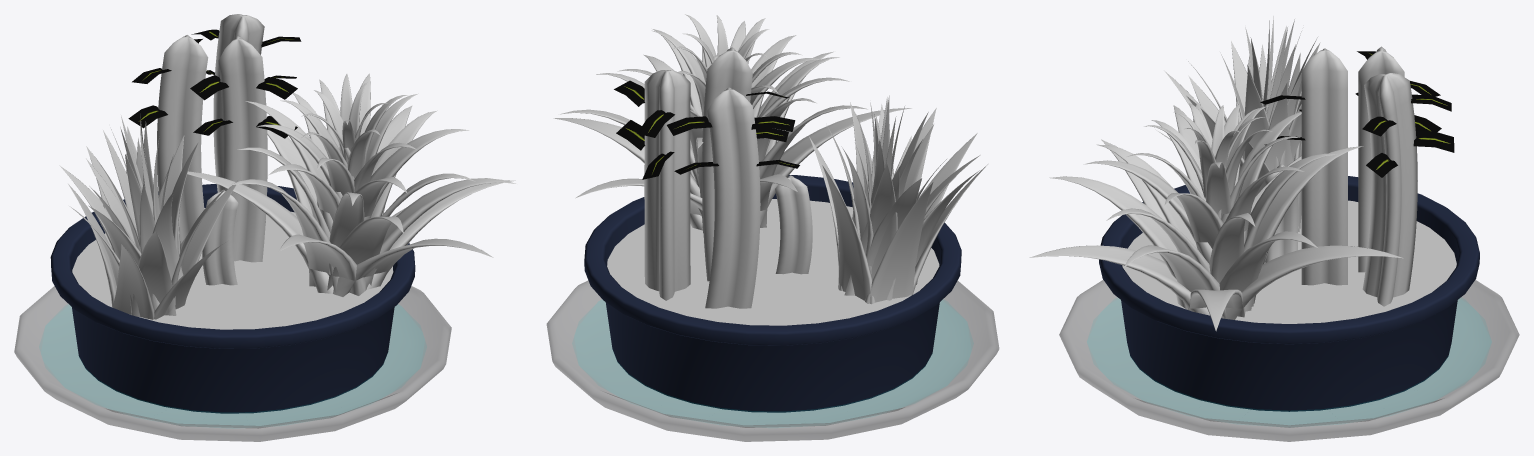
Rendered from Plant.fbx.
3 views of the same model, side by side, from view 1: azimuth 30°, elevation 25°; view 2: azimuth 150°, elevation 25°; view 3: azimuth 270°, elevation 25° (orthographic). The views are drawn at different scales.
Visible parts, largest first — view 1: Pot:prPot, WaterTray:prWaterPlate, Pot:pDirt, TallPlant:pCylinder2, SmallSpikyPlant:pLeaf2 (×6), TallPlant:pCylinder3, SmallSpikyPlant:pLeaf3 (×5), SmallSpikyPlant:pLeaf1 (×4), SmallSpikyPlant:pLeaf4 (×5), SmallSpikyPlant:pLeaf5 (×3), LargeSpikyPlant:SpikeLeaf7 (×4), LargeSpikyPlant:SpikeLeaf8 (×2) (+10 smaller); view 2: Pot:prPot, WaterTray:prWaterPlate, Pot:pDirt, TallPlant:pCylinder3, TallPlant:pCylinder1, TallPlant:pCylinder2, LargeSpikyPlant:SpikeLeaf6, SmallSpikyPlant:pLeaf1 (×3), TallPlant:pCylinder4, LargeSpikyPlant:SpikeLeaf10 (×2), LargeSpikyPlant:SpikeLeaf5, SmallSpikyPlant:pLeaf3 (×3) (+14 smaller); view 3: Pot:prPot, WaterTray:prWaterPlate, Pot:pDirt, TallPlant:pCylinder1, TallPlant:pCylinder2, SmallSpikyPlant:pLeaf4 (×4), SmallSpikyPlant:pLeaf3 (×5), SmallSpikyPlant:pLeaf2 (×4), SmallSpikyPlant:pLeaf5 (×5), TallPlant:pCylinder3, SmallSpikyPlant:pLeaf1 (×4), LargeSpikyPlant:SpikeLeaf11 (×2) (+4 smaller).
Part boxes in pixels (left/top/right/bottom): Pot:prPot: left=50, top=184, right=415, bottom=413; WaterTray:prWaterPlate: left=14, top=286, right=451, bottom=441; Pot:pDirt: left=72, top=208, right=393, bottom=329; TallPlant:pCylinder2: left=218, top=36, right=267, bottom=262; SmallSpikyPlant:pLeaf2 (×6): left=257, top=100, right=493, bottom=296; TallPlant:pCylinder3: left=157, top=35, right=208, bottom=244; SmallSpikyPlant:pLeaf3 (×5): left=317, top=157, right=515, bottom=290; SmallSpikyPlant:pLeaf1 (×4): left=229, top=101, right=366, bottom=295; SmallSpikyPlant:pLeaf4 (×5): left=347, top=105, right=469, bottom=220; SmallSpikyPlant:pLeaf5 (×3): left=187, top=93, right=418, bottom=293; LargeSpikyPlant:SpikeLeaf7 (×4): left=125, top=154, right=225, bottom=315; LargeSpikyPlant:SpikeLeaf8 (×2): left=88, top=205, right=176, bottom=316; Pot:prPot: left=584, top=175, right=961, bottom=412; WaterTray:prWaterPlate: left=546, top=280, right=999, bottom=441; Pot:pDirt: left=607, top=199, right=939, bottom=325; TallPlant:pCylinder3: left=705, top=87, right=760, bottom=308; TallPlant:pCylinder1: left=644, top=70, right=690, bottom=300; TallPlant:pCylinder2: left=702, top=47, right=752, bottom=281; LargeSpikyPlant:SpikeLeaf6: left=864, top=182, right=933, bottom=303; SmallSpikyPlant:pLeaf1 (×3): left=757, top=98, right=911, bottom=225; TallPlant:pCylinder4: left=775, top=175, right=812, bottom=274; LargeSpikyPlant:SpikeLeaf10 (×2): left=841, top=146, right=897, bottom=300; LargeSpikyPlant:SpikeLeaf5: left=822, top=165, right=875, bottom=304; SmallSpikyPlant:pLeaf3 (×3): left=553, top=35, right=822, bottom=230; Pot:prPot: left=1099, top=176, right=1479, bottom=411; WaterTray:prWaterPlate: left=1059, top=280, right=1519, bottom=441; Pot:pDirt: left=1122, top=200, right=1456, bottom=323; TallPlant:pCylinder1: left=1362, top=73, right=1417, bottom=306; TallPlant:pCylinder2: left=1301, top=48, right=1347, bottom=285; SmallSpikyPlant:pLeaf4 (×4): left=1164, top=193, right=1403, bottom=319; SmallSpikyPlant:pLeaf3 (×5): left=1083, top=120, right=1245, bottom=331; SmallSpikyPlant:pLeaf2 (×4): left=1029, top=105, right=1209, bottom=315; SmallSpikyPlant:pLeaf5 (×5): left=1195, top=140, right=1363, bottom=311; TallPlant:pCylinder3: left=1358, top=46, right=1404, bottom=272; SmallSpikyPlant:pLeaf1 (×4): left=1101, top=112, right=1301, bottom=309; LargeSpikyPlant:SpikeLeaf11 (×2): left=1242, top=72, right=1292, bottom=170.
Size of the model in its own units: 34.02 by 23.87 by 31.53.
